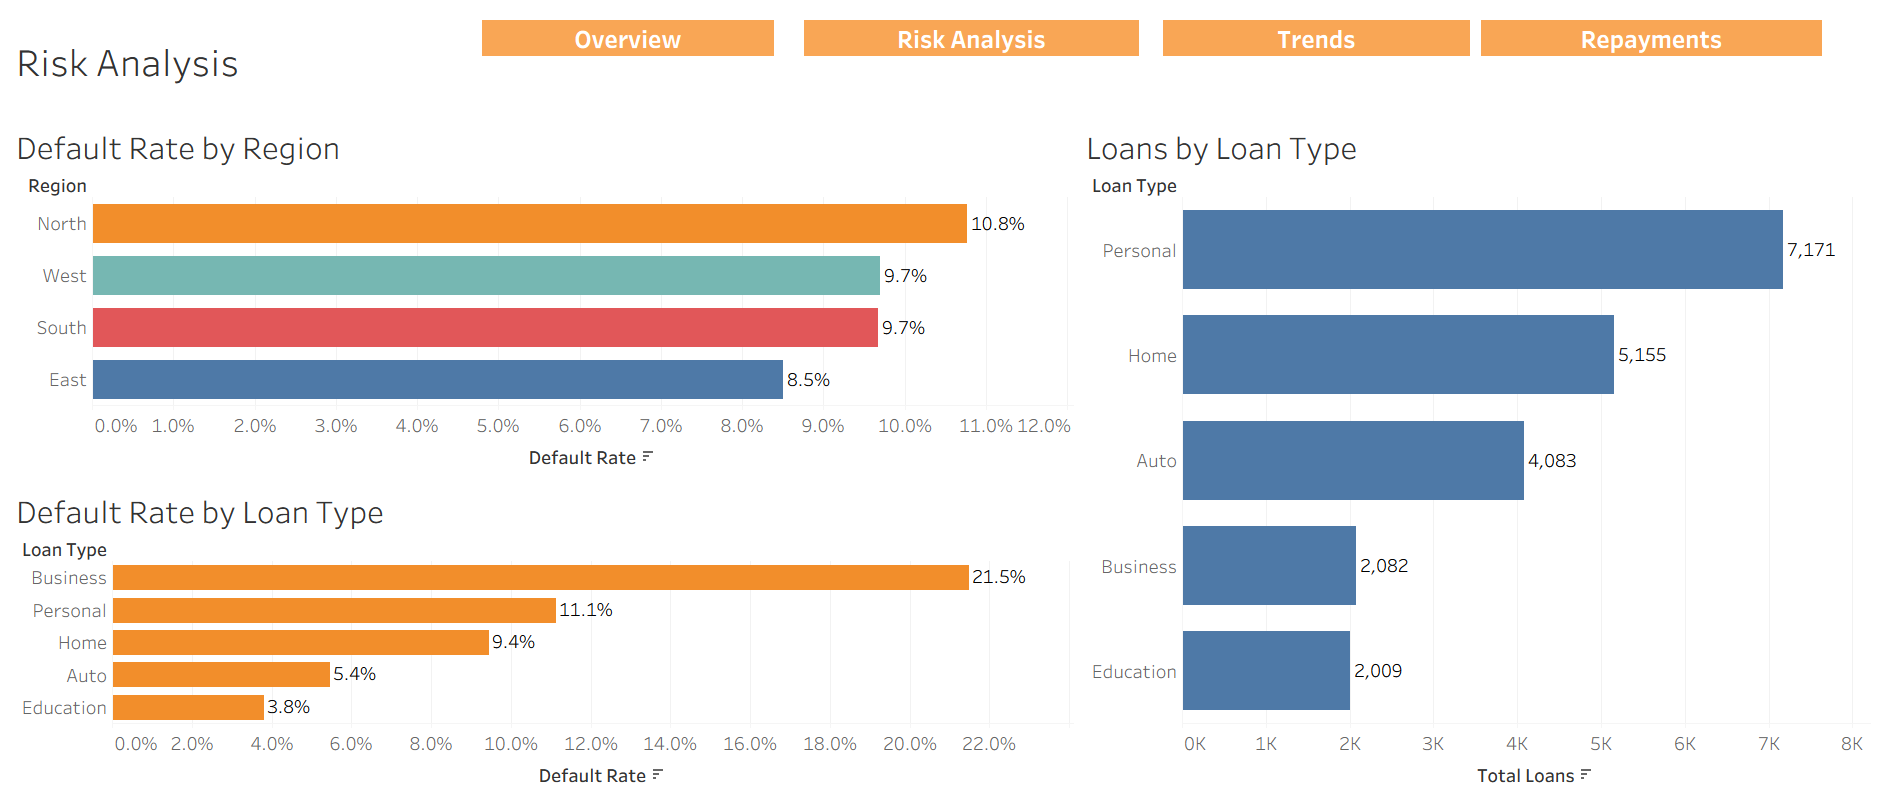

The page's visual inventory and layout, read from the dashboard file:
{"tool":"tableau","page":{"name":"Risk Analysis","canvas":[1000,800],"ordinal":2},"visuals":[{"type":"title","box":[8,8,984,108]},{"type":"dashboard-object","box":[256,20,155,36]},{"type":"dashboard-object","box":[427,20,178,36]},{"type":"dashboard-object","box":[618,20,163,36]},{"type":"dashboard-object","box":[787,20,181,36]},{"type":"worksheet","title":"Default Rate by Region","mark":"Bar","rows":["region"],"cols":["Calculation_0920897667469317"],"box":[8,116,564,360.4]},{"type":"worksheet","title":"Loans by Loan Type","mark":"Automatic","rows":["loan_type"],"cols":["Calculation_0920897658220544"],"box":[572,116,420,676]},{"type":"worksheet","title":"Default Rate by Loan Type","mark":"Automatic","rows":["loan_type"],"cols":["Calculation_0920897667469317"],"box":[8,476.4,564,315.6]}]}

Visuals, with their boxes on the page's 1000x800 design canvas (x1, y1, x2, y2). These are canvas units, not pixel positions in the 1882x806 screenshot, which may show the page scaled, cropped or inside an application window:
title: {"left": 8, "top": 8, "right": 992, "bottom": 116}
dashboard-object: {"left": 256, "top": 20, "right": 411, "bottom": 56}
dashboard-object: {"left": 427, "top": 20, "right": 605, "bottom": 56}
dashboard-object: {"left": 618, "top": 20, "right": 781, "bottom": 56}
dashboard-object: {"left": 787, "top": 20, "right": 968, "bottom": 56}
"Default Rate by Region" worksheet (Bar marks): {"left": 8, "top": 116, "right": 572, "bottom": 476}
"Loans by Loan Type" worksheet: {"left": 572, "top": 116, "right": 992, "bottom": 792}
"Default Rate by Loan Type" worksheet: {"left": 8, "top": 476, "right": 572, "bottom": 792}
